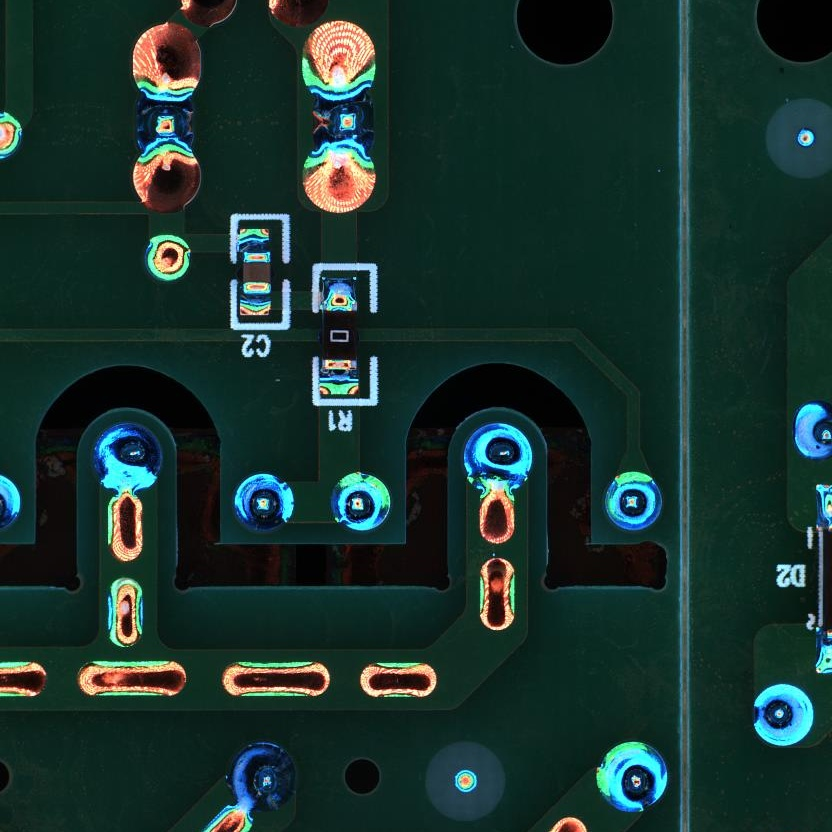spot: (223, 739, 298, 815), (89, 421, 165, 495), (593, 740, 670, 813), (460, 421, 535, 495), (308, 90, 379, 160), (129, 91, 197, 161), (750, 682, 815, 749), (232, 472, 295, 537), (330, 470, 391, 533), (603, 470, 664, 533), (793, 402, 832, 460)
